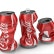paper: (17, 8, 40, 47), (0, 10, 19, 53), (35, 17, 54, 43)
